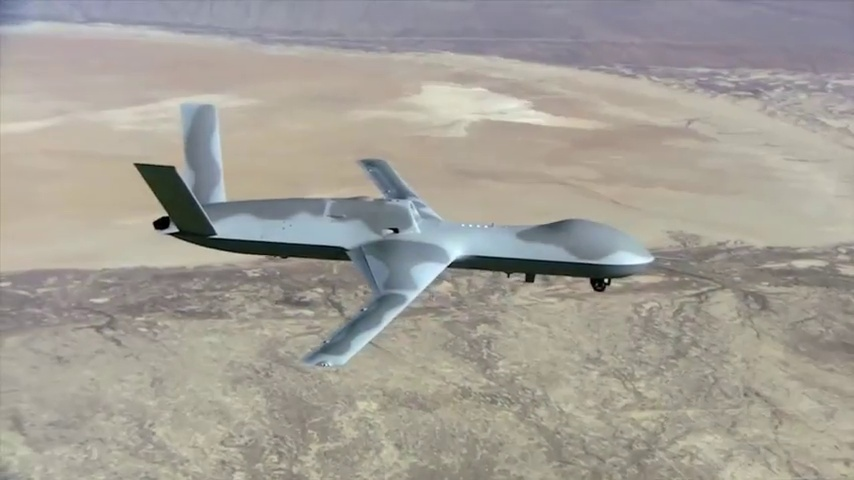military drone: (133, 102, 685, 368)
